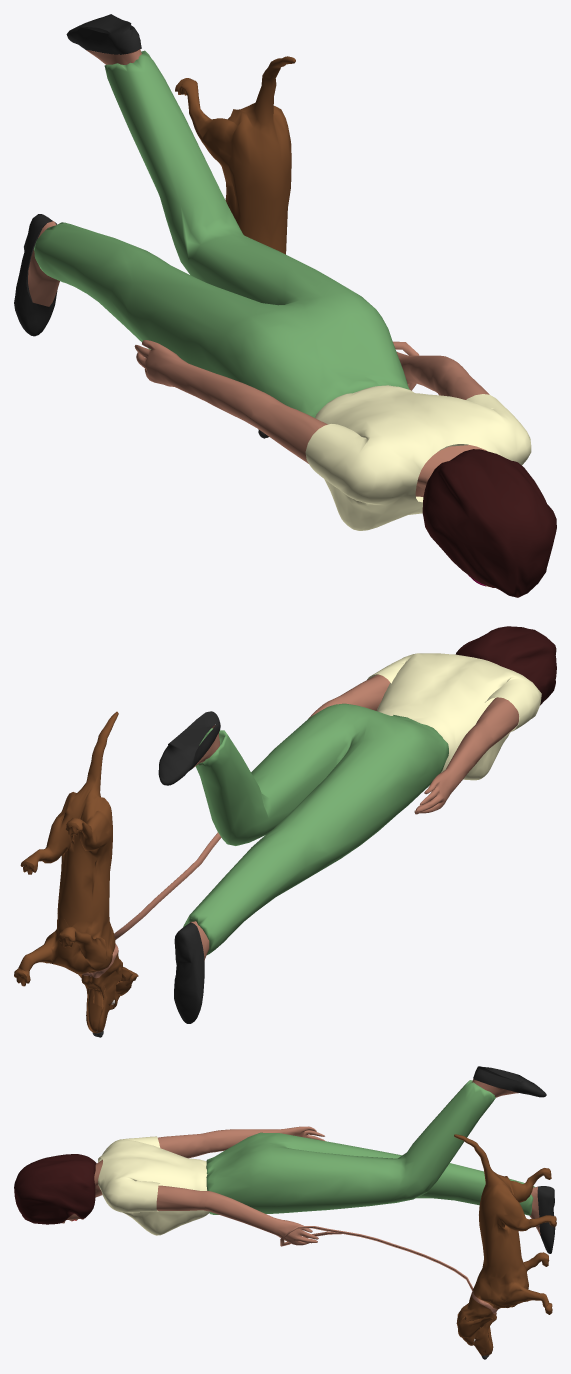
The model's file is Woman_Dog.obj.
3 renders of one model, top to bottom at view 1: azimuth 30°, elevation 25°; view 2: azimuth 150°, elevation 25°; view 3: azimuth 270°, elevation 25°, orthographic. The views are drawn at different scales.
Parts seen in each view (by area): view 1: Object002, Object001, Object003, Group_009, Object004, Object005, Group_007; view 2: Object002, Group_009, Object001, Object005, Object004, Object003, Group_005; view 3: Object002, Group_009, Object001, Object004, Object003, Object005, Group_005.
Boxes of the visible parts, <box> form: Object002: <box>34,50,409,417</box>; Object001: <box>305,385,531,530</box>; Object003: <box>422,449,556,597</box>; Group_009: <box>175,56,295,438</box>; Object004: <box>134,340,489,463</box>; Object005: <box>14,14,141,336</box>; Group_007: <box>415,445,489,586</box>; Object002: <box>183,703,448,954</box>; Group_009: <box>14,711,138,1037</box>; Object001: <box>367,653,541,780</box>; Object005: <box>158,711,220,1023</box>; Object004: <box>308,674,518,814</box>; Object003: <box>455,626,556,705</box>; Group_005: <box>114,832,221,939</box>; Object002: <box>206,1080,535,1215</box>; Group_009: <box>454,1134,556,1359</box>; Object001: <box>98,1136,209,1235</box>; Object004: <box>156,1126,325,1245</box>; Object003: <box>14,1154,96,1224</box>; Object005: <box>472,1066,555,1253</box>; Group_005: <box>280,1226,473,1290</box>.
Size of the model in its own units: 67.58 by 87.04 by 168.
